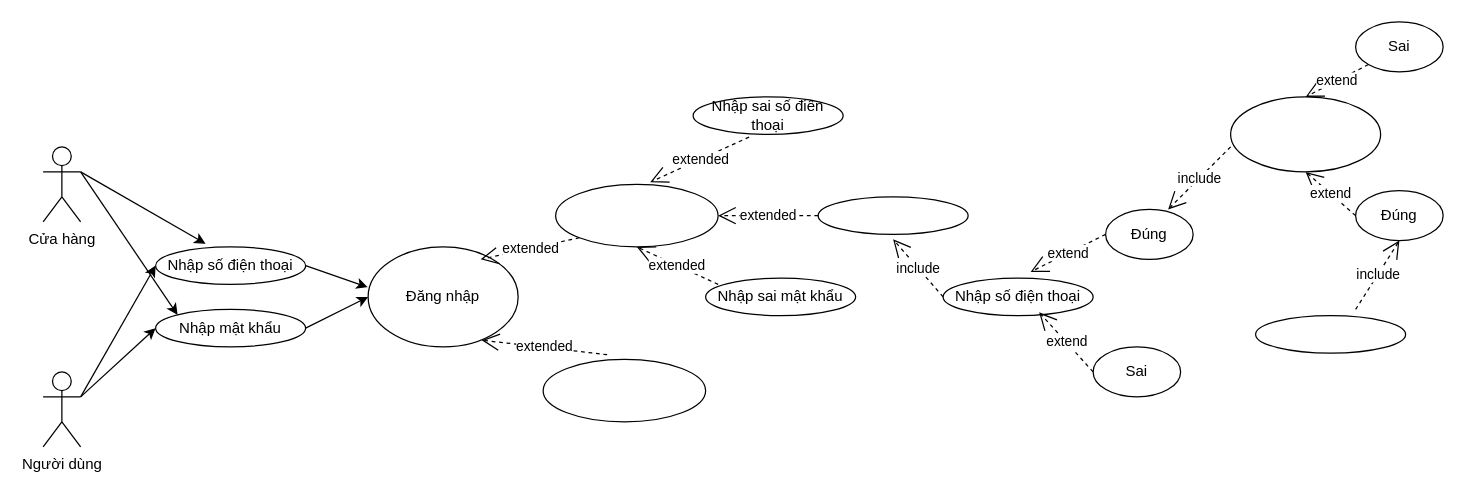
Some shapes in this 1465 by 495 pixel diagram are drawn without their labels. Here are the shapes that lost their labels. From the top down, the centre of each, then its label:
At (1305,134): "Nhập mã gửi về điện thoại".
At (636,215): "Đăng nhập ko thành công".
At (892,215): "Quên mật khẩu".
At (1330,333): "Nhập mật khẩu mới".
At (624,390): "Đăng nhập thành công".
